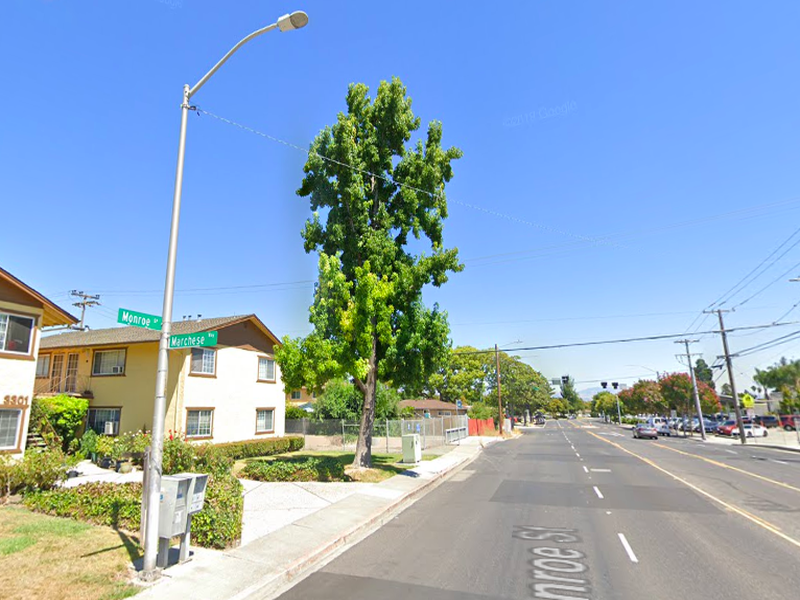tree: (271, 74, 466, 473)
